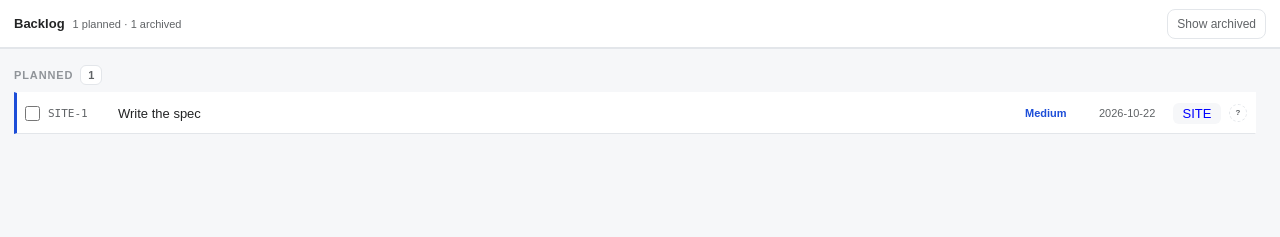
Test case: BacklogView › reveals archived work on demand
Step 1. Click the button "Show archived" → (1217, 24), box x1=1167 y1=8 x2=1266 y2=38
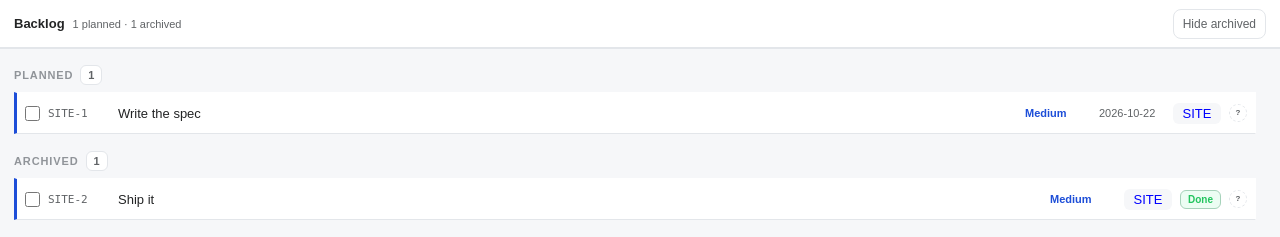
Result: the heading "Archived 1" is shown at x1=14 y1=151 x2=108 y2=171
Result: the button "Ship it" is shown at x1=118 y1=186 x2=1042 y2=212
